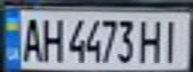3: (115, 16, 139, 64)
4: (63, 15, 87, 63), (81, 16, 103, 63)
7: (100, 16, 121, 63)
A: (18, 14, 45, 63)
H: (136, 16, 166, 64), (39, 14, 66, 63)
I: (157, 16, 187, 63)
